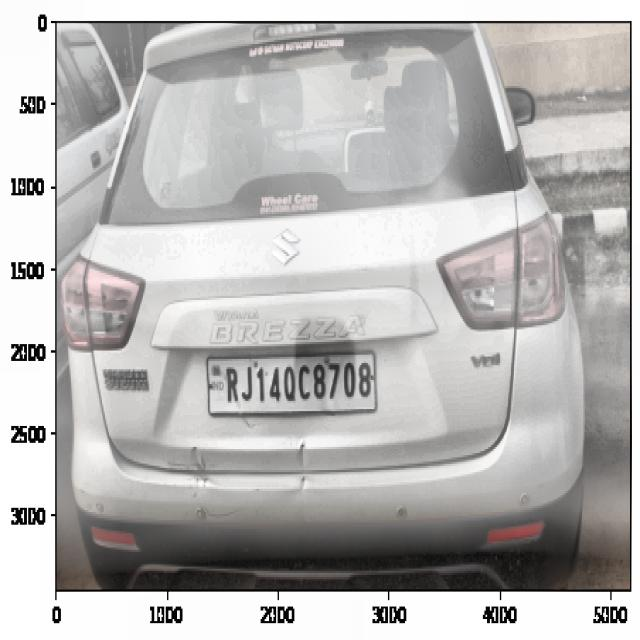license_plate: (219, 354, 377, 409)
